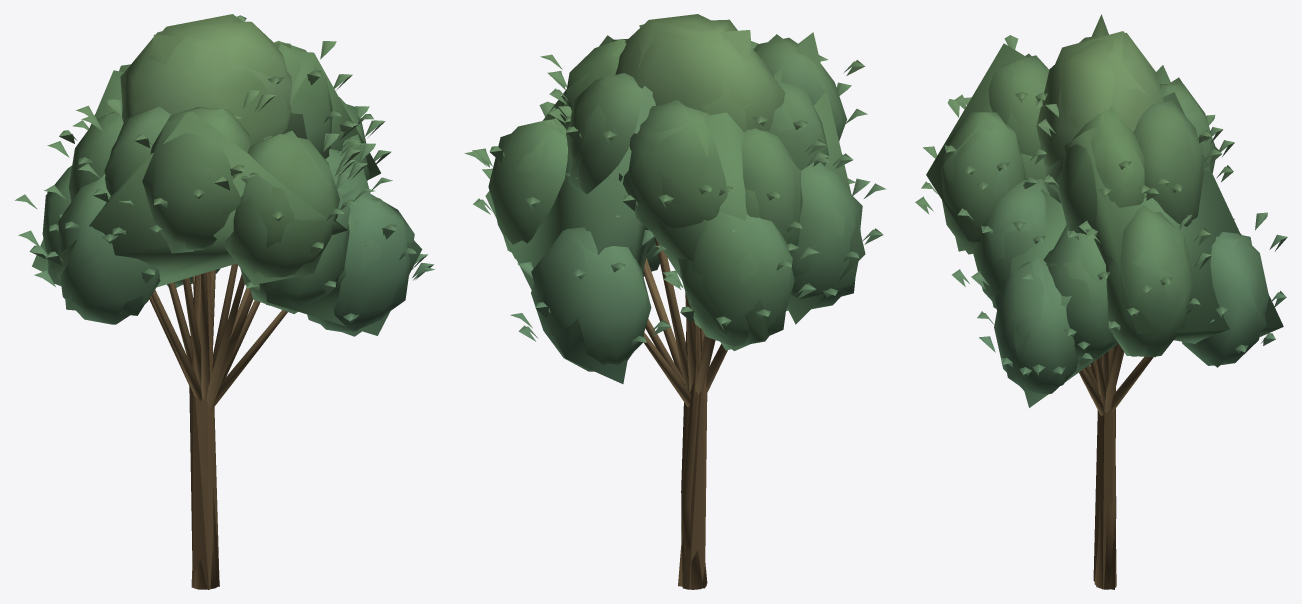
The model's file is Sapling.glb.
3 views of the same model, side by side, from view 1: azimuth 30°, elevation 25°; view 2: azimuth 150°, elevation 25°; view 3: azimuth 270°, elevation 25° (orthographic). The views are drawn at different scales.
Parts seen in each view (by area): view 1: Sapling_L0, Sapling_L2, Sapling_L1; view 2: Sapling_L0, Sapling_L2, Sapling_L1; view 3: Sapling_L0, Sapling_L2, Sapling_L1.
Boxes of the visible parts, x1,y1,x2,y2 form: Sapling_L0: (15,15,434,589); Sapling_L2: (32,34,422,589); Sapling_L1: (15,14,433,587); Sapling_L0: (465,14,885,589); Sapling_L2: (485,30,865,589); Sapling_L1: (466,19,883,588); Sapling_L0: (915,32,1287,589); Sapling_L2: (926,14,1283,589); Sapling_L1: (915,31,1287,589).
Size of the model in its own units: 2.8 by 4.04 by 2.5.
